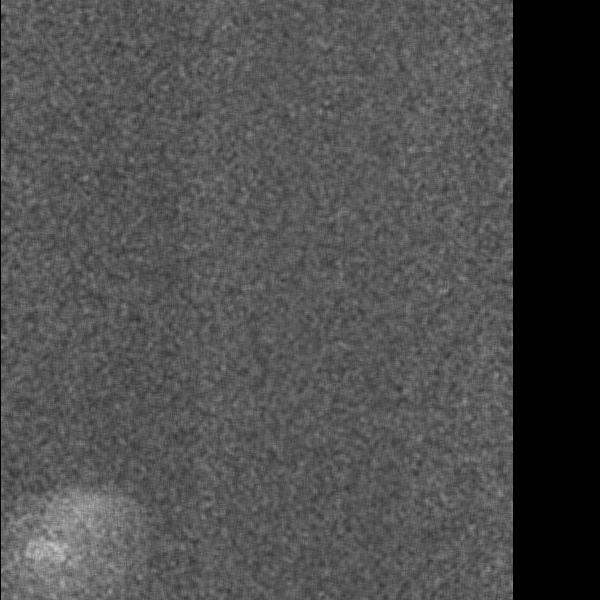spark: (25, 501, 83, 599), (5, 511, 29, 530)
